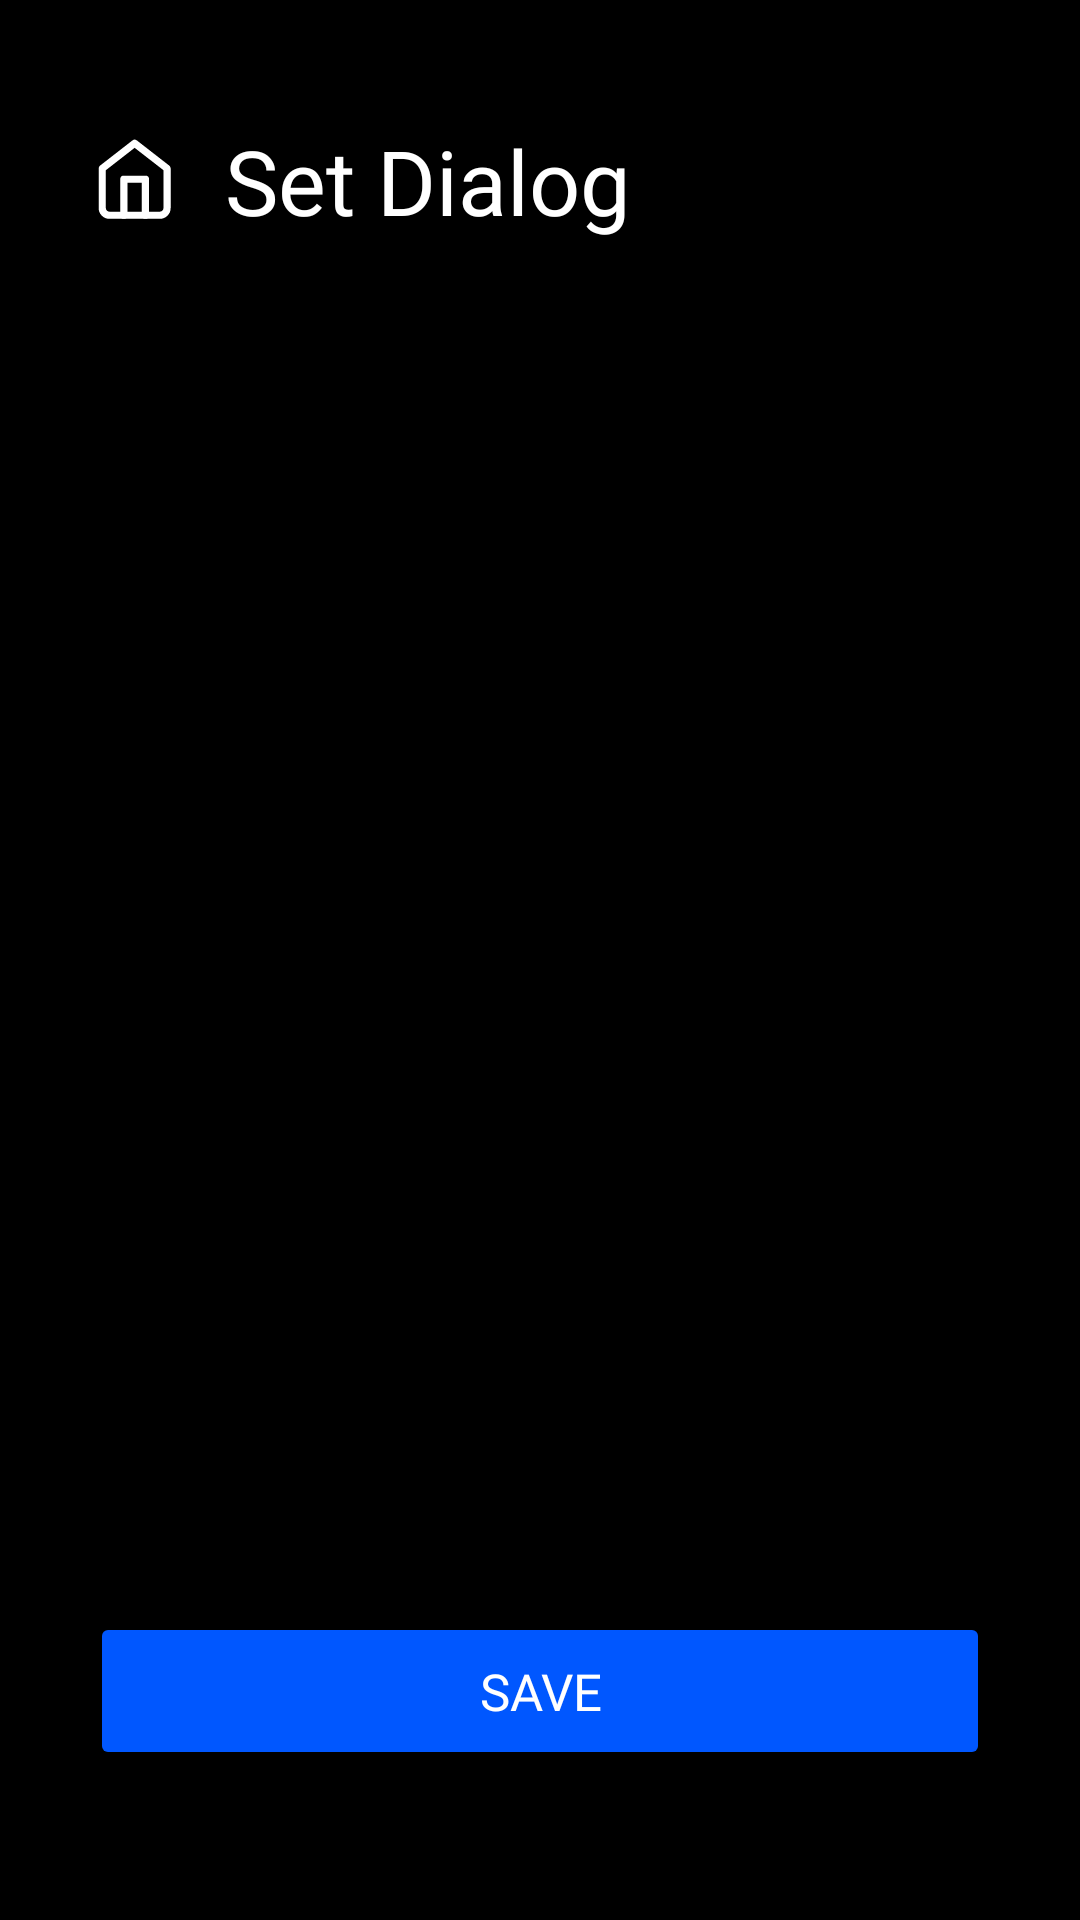

Icons on this 1080px×1920px Android screen, each with its box as (x1, y1, x2, y2):
home: (98, 139, 171, 219)
